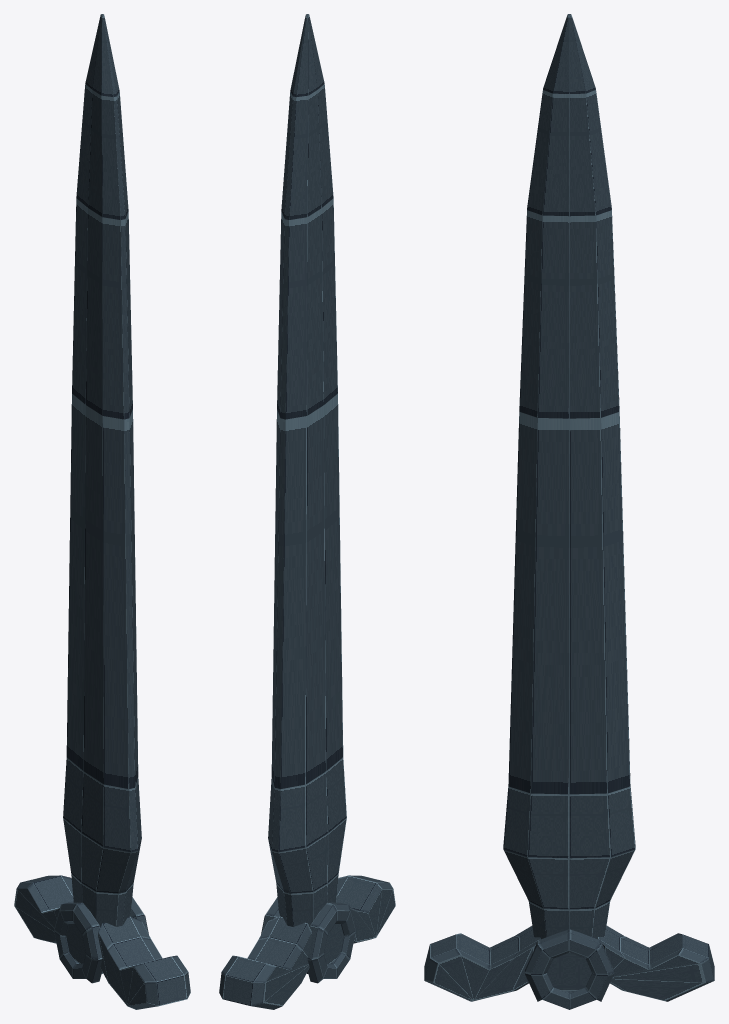
The model's file is workpiece_qingxiao_liuyun_sword_quenched.obj.
The picture shows the model from 3 angles, left to right: view 1: azimuth 30°, elevation 25°; view 2: azimuth 150°, elevation 25°; view 3: azimuth 270°, elevation 25°; orthographic projection. The views are drawn at different scales.
Parts seen in each view (by area): view 1: geometry; view 2: geometry; view 3: geometry.
Part boxes in pixels (left/top/right/bottom): geometry: left=14, top=14, right=190, bottom=1009; geometry: left=219, top=14, right=395, bottom=1009; geometry: left=424, top=14, right=714, bottom=1009.
Size of the model in its own units: 0.0844 by 1.31 by 0.3513.
